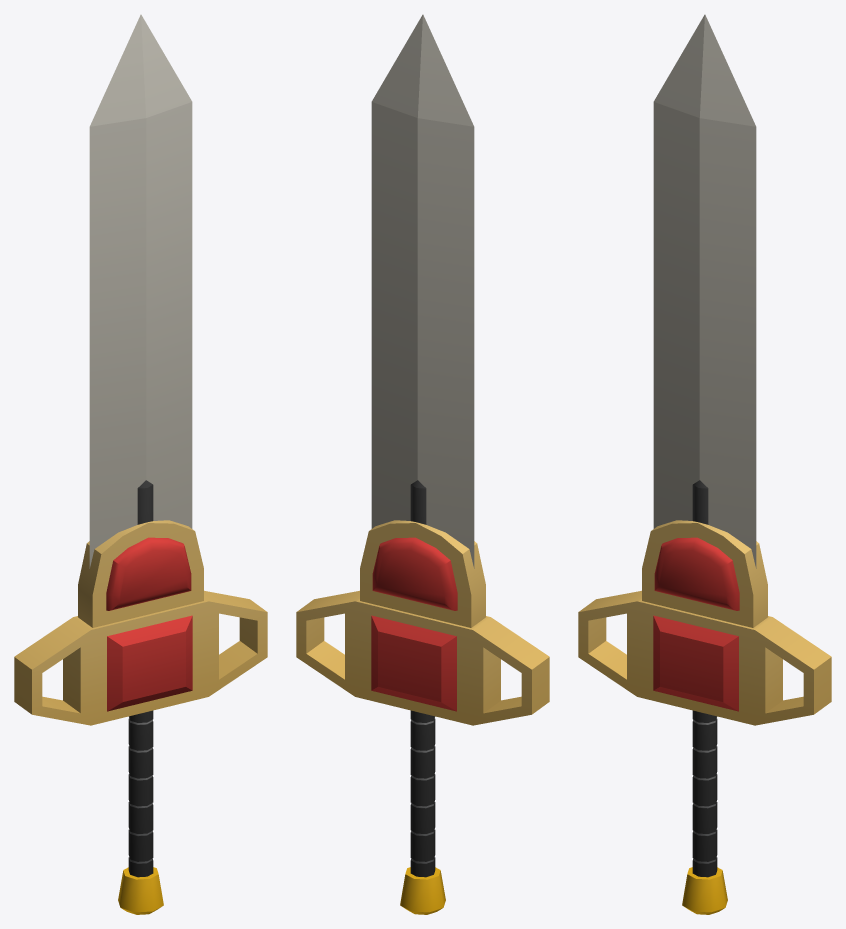
The model's file is sword.fbx.
3 views of the same model, side by side, from view 1: azimuth 30°, elevation 25°; view 2: azimuth 150°, elevation 25°; view 3: azimuth 330°, elevation 25° (orthographic).
Parts seen in each view (by area): view 1: Cylinder, Cylinder.001; view 2: Cylinder, Cylinder.001; view 3: Cylinder, Cylinder.001.
Boxes of the visible parts, bbox=[...] form: Cylinder: bbox=[14, 14, 267, 725]; Cylinder.001: bbox=[118, 480, 163, 914]; Cylinder: bbox=[296, 14, 549, 725]; Cylinder.001: bbox=[400, 480, 445, 914]; Cylinder: bbox=[578, 14, 831, 725]; Cylinder.001: bbox=[682, 480, 727, 914].
Bounding box in the file's own units: 91.75 × 333 × 18.
